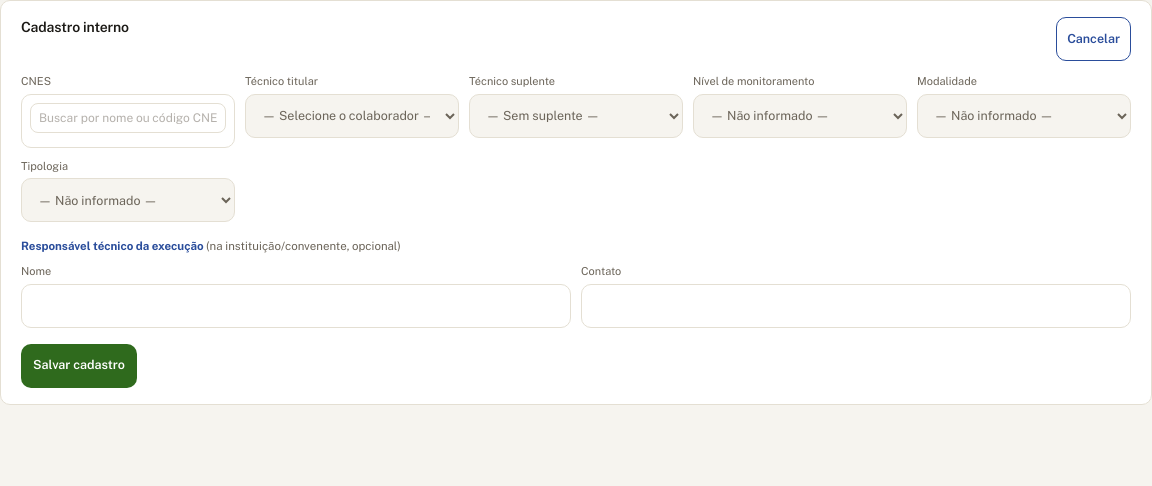
it: cadastro interno com form, Query e consultas reais › expõe falha da consulta de técnicos e permite nova tentativa sem perder edição
The image size is (1152, 486).
Type "Edição preservada" into the field labelled "Nome" at point(296, 306), box [21, 284, 571, 328]
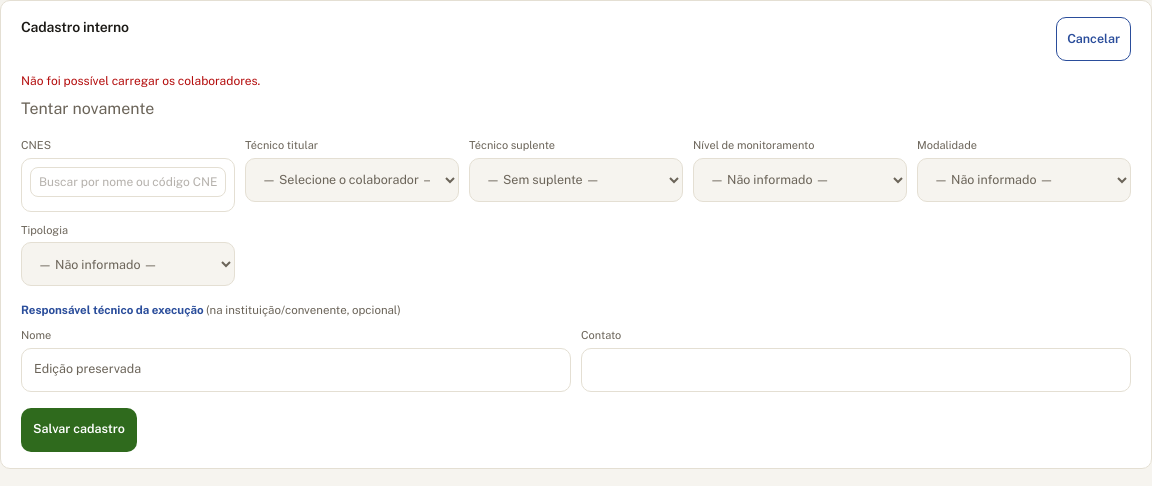
Expected: the button "Salvar cadastro" is disabled, [21, 408, 137, 452]
Expected: the message reads "Não foi possível carregar os colaboradores.", [21, 74, 260, 88]
Click the button "Tentar novamente" at point(88, 109), box [21, 97, 154, 121]
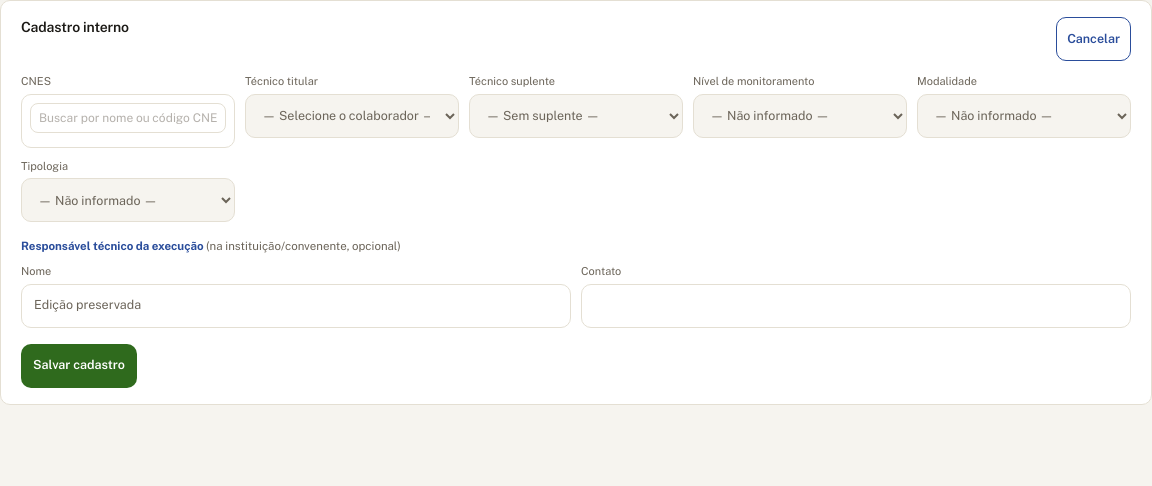
Expected: the dropdown labelled "Técnico titular" is enabled, [245, 94, 459, 138]
